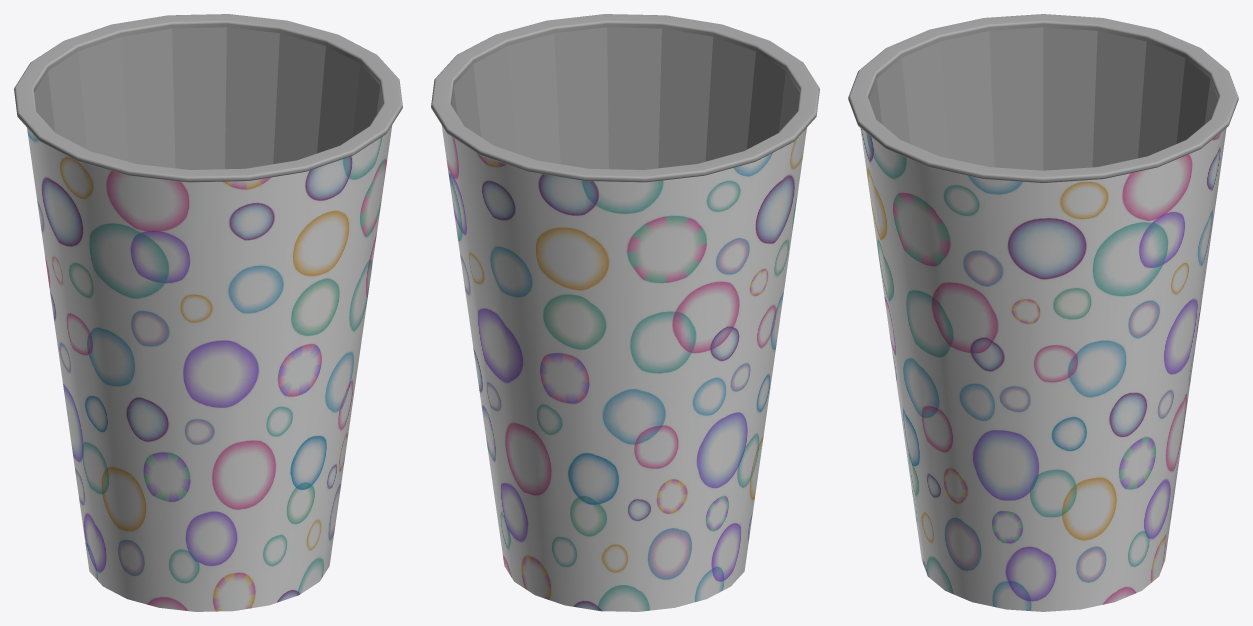
Rendered from Cup3.fbx.
3 views of the same model, side by side, from view 1: azimuth 30°, elevation 25°; view 2: azimuth 150°, elevation 25°; view 3: azimuth 270°, elevation 25° (orthographic).
Visible parts, largest first — view 1: polySurface14; view 2: polySurface14; view 3: polySurface14.
Boxes of the visible parts, box(x1,y1,x2,y2) form: polySurface14: box(14, 14, 402, 611); polySurface14: box(431, 14, 819, 611); polySurface14: box(848, 14, 1238, 611).
Size of the model in its own units: 7.71 by 10.12 by 7.71.
Materials: 2 (1 with a texture image).
